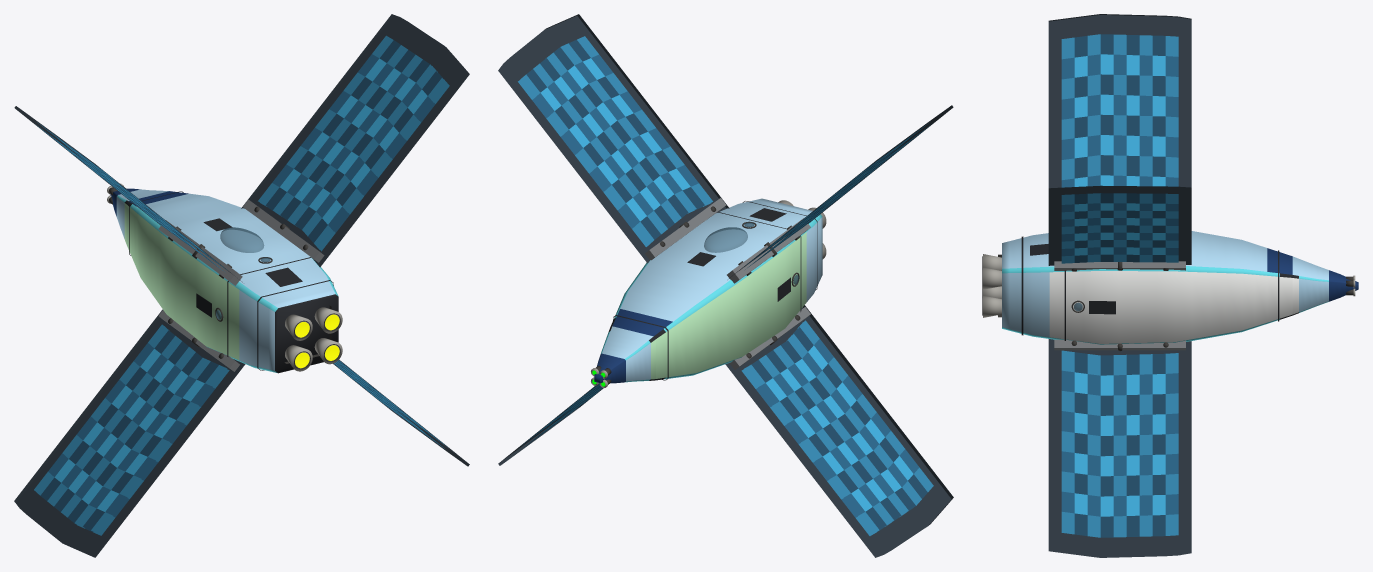
File: Ship_Crosspanel_8.glb
3 views of the same model, side by side, from view 1: azimuth 30°, elevation 25°; view 2: azimuth 150°, elevation 25°; view 3: azimuth 270°, elevation 25° (orthographic). The views are drawn at different scales.
Parts seen in each view (by area): view 1: SolarPanelWing_LowerLeftRidge_RectangularPhotovoltaicGrid, SolarPanelWing_TopRightRidge_RectangularPhotovoltaicGrid, Fuselage_SquareBody, SolarPanelWing_TopLeftRidge_RectangularPhotovoltaicGrid, SolarPanelWing_LowerRightRidge_RectangularPhotovoltaicGrid, SolarPanelWing_TopLeftRidge_RootHingeClamp, SolarPanelWing_TopRightRidge_RootHingeClamp, Canopy_DorsalLowSquareBubble, EngineEmitter, Nose_SquareTaperedForwardSection, SolarPanelWing_LowerLeftRidge_RootHingeClamp; view 2: SolarPanelWing_LowerLeftRidge_RectangularPhotovoltaicGrid, SolarPanelWing_TopRightRidge_RectangularPhotovoltaicGrid, Fuselage_SquareBody, Nose_SquareTaperedForwardSection, SolarPanelWing_TopLeftRidge_RectangularPhotovoltaicGrid, SolarPanelWing_TopLeftRidge_RootHingeClamp, SolarPanelWing_TopRightRidge_RootHingeClamp, Canopy_DorsalLowSquareBubble, SolarPanelWing_LowerRightRidge_RectangularPhotovoltaicGrid, SolarPanelWing_LowerLeftRidge_RootHingeClamp; view 3: SolarPanelWing_LowerRightRidge_RectangularPhotovoltaicGrid, SolarPanelWing_TopLeftRidge_RectangularPhotovoltaicGrid, Fuselage_SquareBody, SolarPanelWing_TopRightRidge_RectangularPhotovoltaicGrid, Nose_SquareTaperedForwardSection, SolarPanelWing_LowerRightRidge_RootHingeClamp, SolarPanelWing_TopRightRidge_RootHingeClamp.
Boxes of the visible parts, bbox=[...] form: SolarPanelWing_LowerLeftRidge_RectangularPhotovoltaicGrid: bbox=[14, 309, 245, 557]; SolarPanelWing_TopRightRidge_RectangularPhotovoltaicGrid: bbox=[241, 14, 469, 267]; Fuselage_SquareBody: bbox=[126, 191, 338, 373]; SolarPanelWing_TopLeftRidge_RectangularPhotovoltaicGrid: bbox=[14, 106, 242, 282]; SolarPanelWing_LowerRightRidge_RectangularPhotovoltaicGrid: bbox=[333, 359, 469, 466]; SolarPanelWing_TopLeftRidge_RootHingeClamp: bbox=[158, 220, 242, 285]; SolarPanelWing_TopRightRidge_RootHingeClamp: bbox=[243, 199, 324, 262]; Canopy_DorsalLowSquareBubble: bbox=[220, 227, 264, 252]; EngineEmitter: bbox=[295, 314, 339, 368]; Nose_SquareTaperedForwardSection: bbox=[110, 188, 169, 243]; SolarPanelWing_LowerLeftRidge_RootHingeClamp: bbox=[158, 310, 239, 371]; SolarPanelWing_LowerLeftRidge_RectangularPhotovoltaicGrid: bbox=[725, 305, 953, 557]; SolarPanelWing_TopRightRidge_RectangularPhotovoltaicGrid: bbox=[498, 14, 729, 263]; Fuselage_SquareBody: bbox=[610, 198, 822, 380]; Nose_SquareTaperedForwardSection: bbox=[594, 326, 655, 383]; SolarPanelWing_TopLeftRidge_RectangularPhotovoltaicGrid: bbox=[730, 105, 953, 277]; SolarPanelWing_TopLeftRidge_RootHingeClamp: bbox=[727, 218, 810, 283]; SolarPanelWing_TopRightRidge_RootHingeClamp: bbox=[645, 198, 726, 260]; Canopy_DorsalLowSquareBubble: bbox=[704, 227, 747, 252]; SolarPanelWing_LowerRightRidge_RectangularPhotovoltaicGrid: bbox=[498, 383, 603, 465]; SolarPanelWing_LowerLeftRidge_RootHingeClamp: bbox=[729, 307, 810, 369]; SolarPanelWing_LowerRightRidge_RectangularPhotovoltaicGrid: bbox=[1048, 339, 1191, 557]; SolarPanelWing_TopLeftRidge_RectangularPhotovoltaicGrid: bbox=[1048, 14, 1191, 188]; Fuselage_SquareBody: bbox=[1002, 231, 1292, 344]; SolarPanelWing_TopRightRidge_RectangularPhotovoltaicGrid: bbox=[1048, 185, 1191, 265]; Nose_SquareTaperedForwardSection: bbox=[1292, 256, 1358, 315]; SolarPanelWing_LowerRightRidge_RootHingeClamp: bbox=[1054, 339, 1185, 350]; SolarPanelWing_TopRightRidge_RootHingeClamp: bbox=[1054, 261, 1185, 270].
Bounding box in the file's own units: 7.5 × 7.5 × 6.87.
